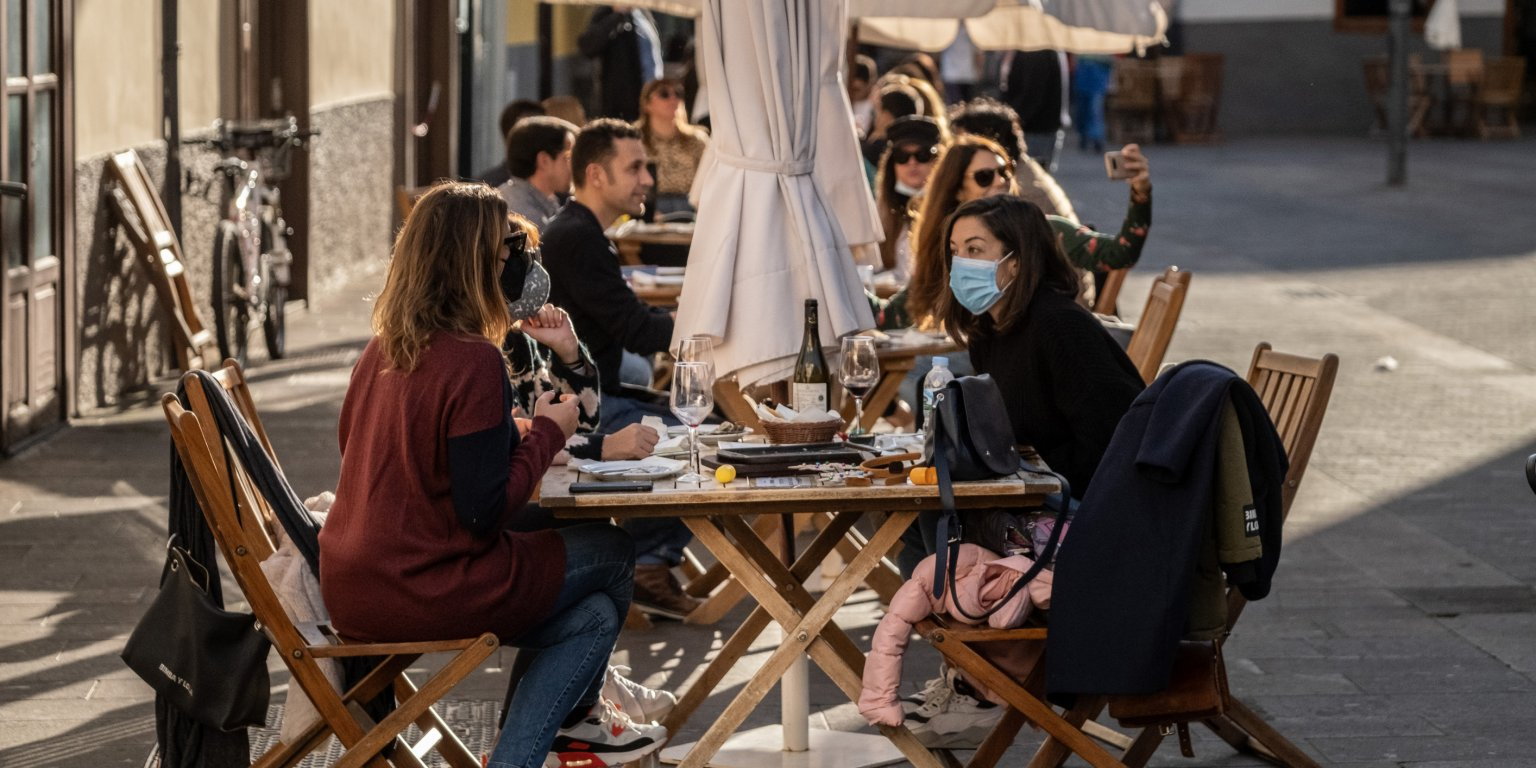with_incorrect_mask: (889, 132, 944, 198)
with_mask: (944, 222, 1023, 316), (454, 210, 528, 304)
without_mask: (575, 130, 655, 221), (648, 82, 683, 119)
